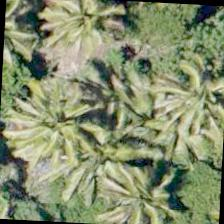Kelapa_Sawit: (8, 76, 103, 170), (137, 60, 223, 156), (91, 149, 187, 223), (43, 0, 137, 54)
